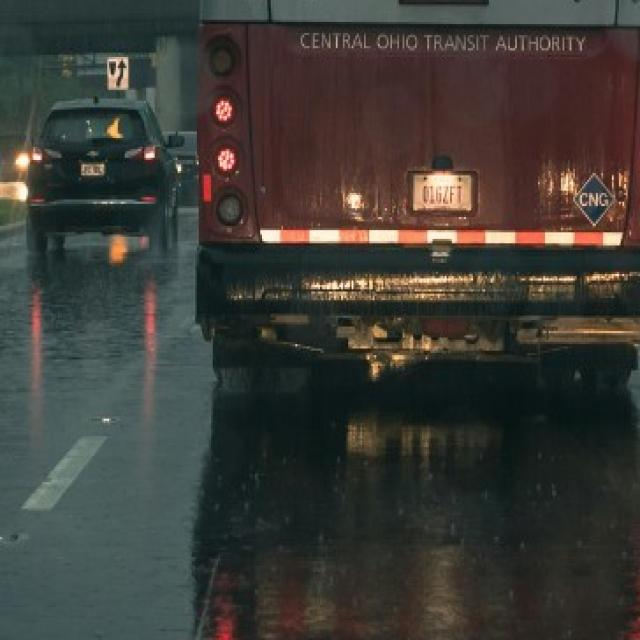bus: (191, 0, 640, 407)
car: (26, 97, 186, 261)
